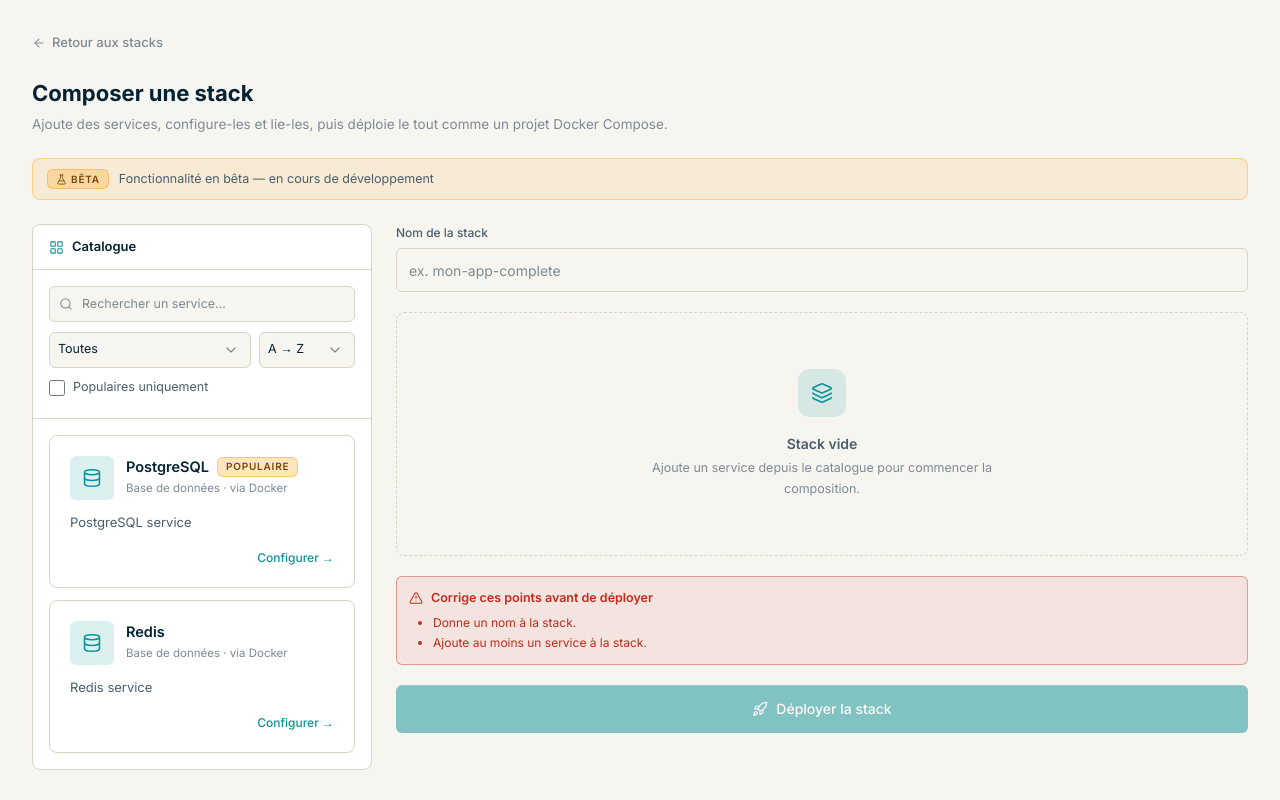
it: StackBuilderPage › restreint aux services populaires
Expected: the text "PostgreSQL" is shown, [126,456,209,478]
What coordinates should you click on to do the following:
click the checkbox labelled "Populaires uniquement"
I would click on:
 (57, 388)
Its box is [49,380,65,396].
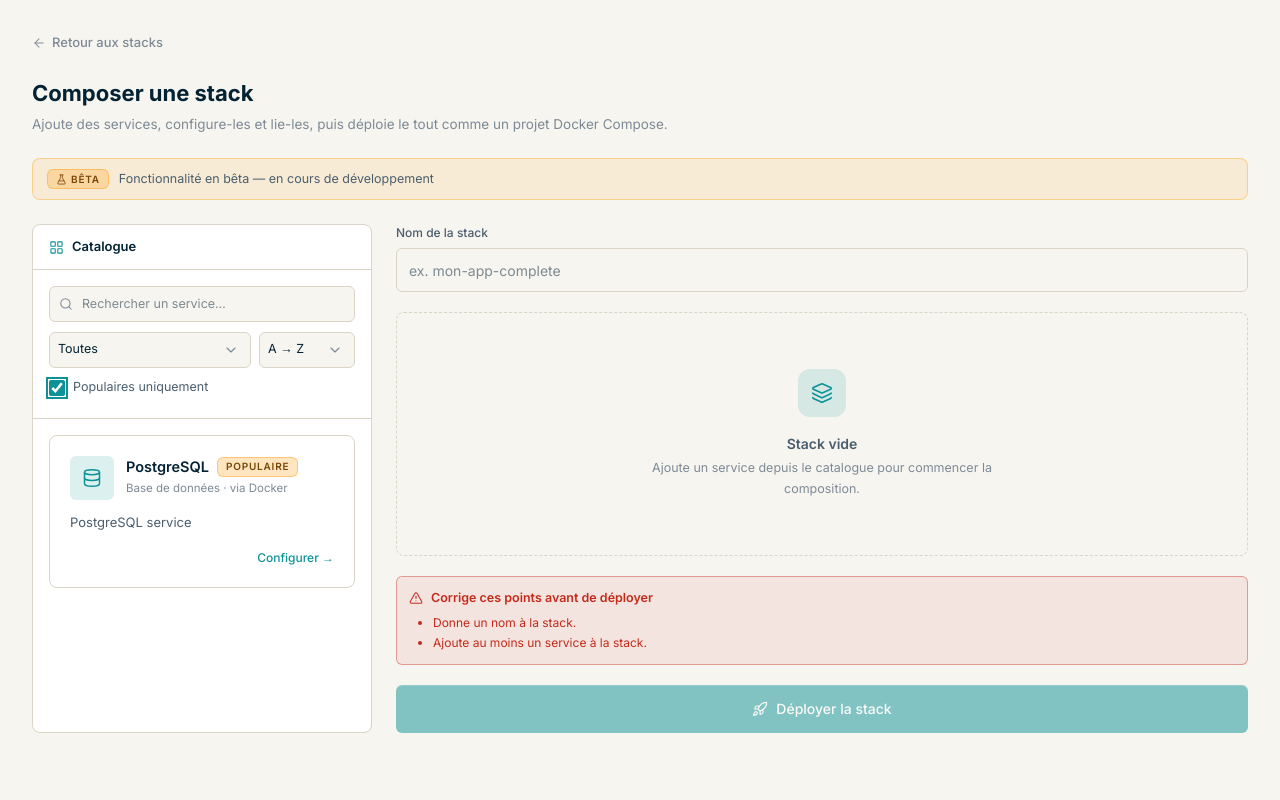
Expected: the text "PostgreSQL" is shown, [126,456,209,478]
Now the button "Redis" is gone
